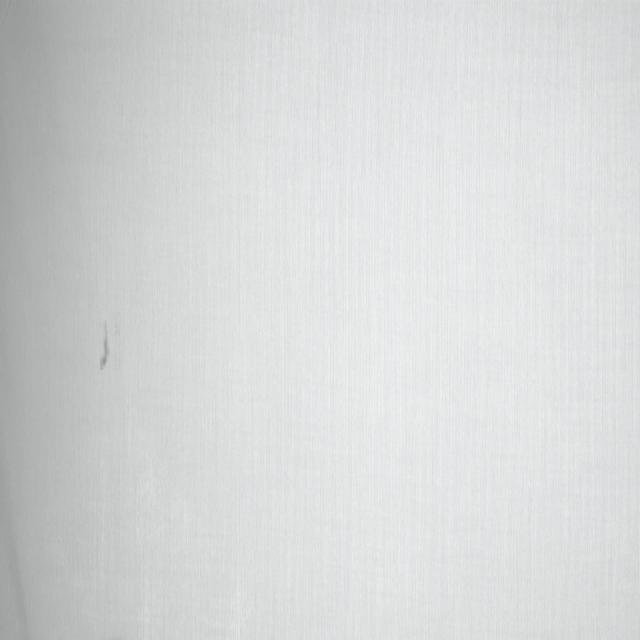dirty: (102, 325, 109, 374)
